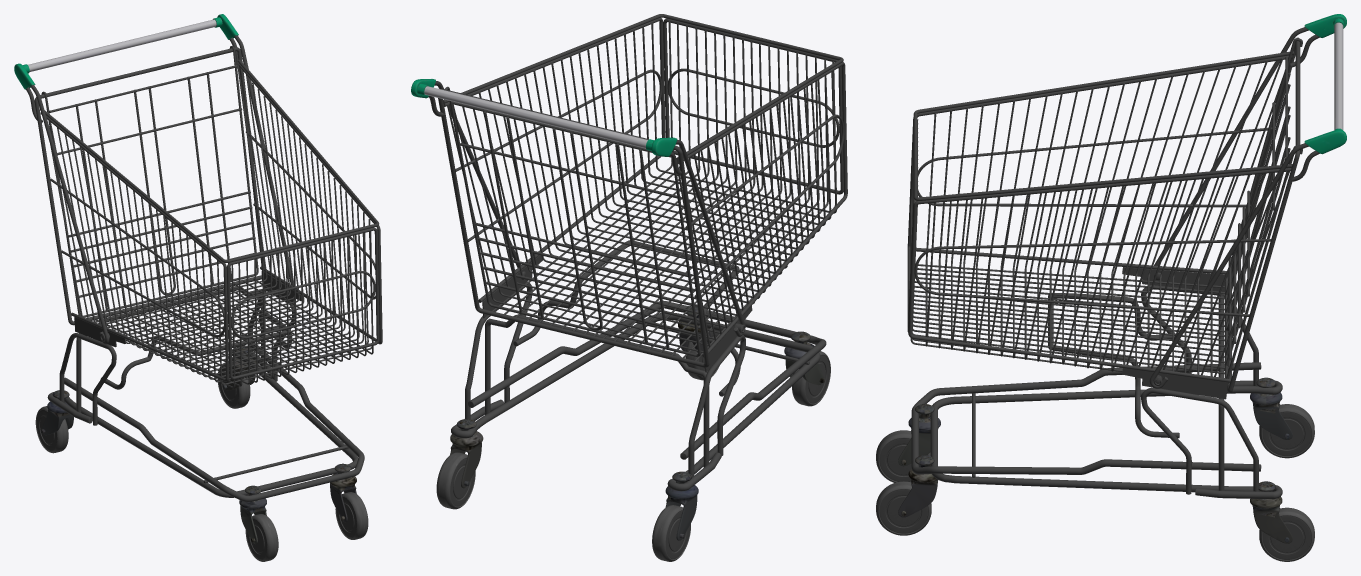
The model's file is cart-basket.web.glb.
3 views of the same model, side by side, from view 1: azimuth 30°, elevation 25°; view 2: azimuth 150°, elevation 25°; view 3: azimuth 270°, elevation 25° (orthographic). The views are drawn at different scales.
Visible parts, largest first — view 1: Object_2; view 2: Object_2; view 3: Object_2.
Part boxes in pixels (box(x1,y1,x2,y2)): Object_2: box(14, 14, 382, 561); Object_2: box(411, 14, 847, 561); Object_2: box(876, 14, 1346, 561).
Size of the model in its own units: 60.54 by 103 by 101.
1 material, 1 textured.
